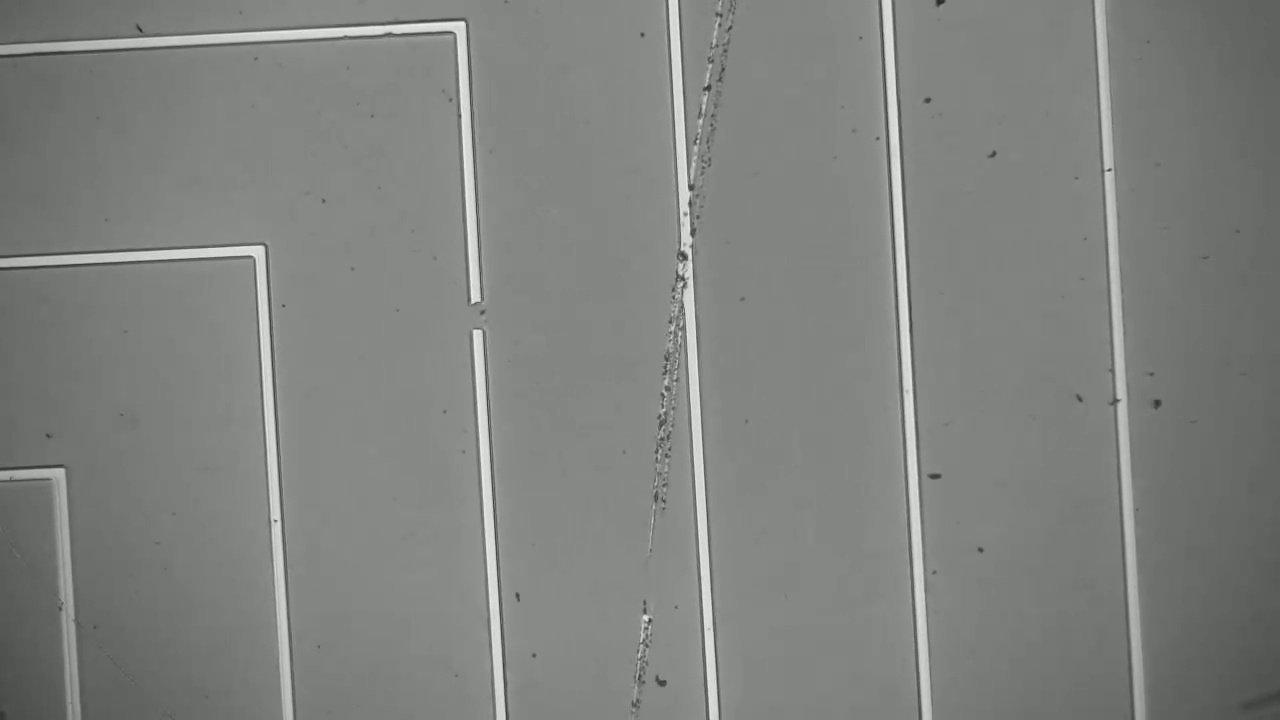open: (444, 280, 499, 354)
scratch: (623, 0, 746, 714)
